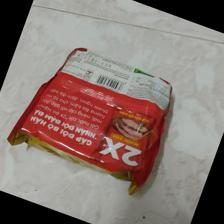3mien: (6, 47, 174, 198)
